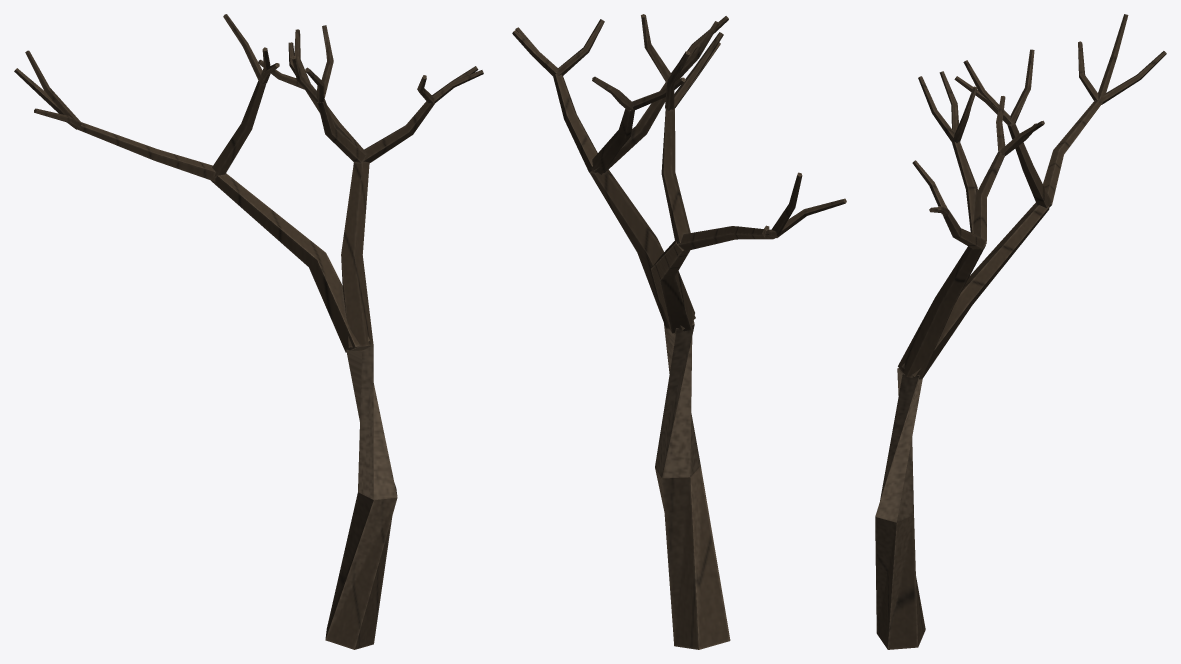
Rendered from arbre_mort.fbx.
3 renders of one model, left to right at view 1: azimuth 30°, elevation 25°; view 2: azimuth 150°, elevation 25°; view 3: azimuth 270°, elevation 25°, orthographic. The views are drawn at different scales.
Visible parts, largest first — view 1: arbre_mort; view 2: arbre_mort; view 3: arbre_mort.
Boxes of the visible parts, bbox=[...] form: arbre_mort: bbox=[14, 14, 483, 649]; arbre_mort: bbox=[512, 14, 846, 649]; arbre_mort: bbox=[875, 14, 1166, 649].
Bounding box in the file's own units: 3.81 × 5.81 × 2.71.
Materials: 1 (1 with a texture image).
